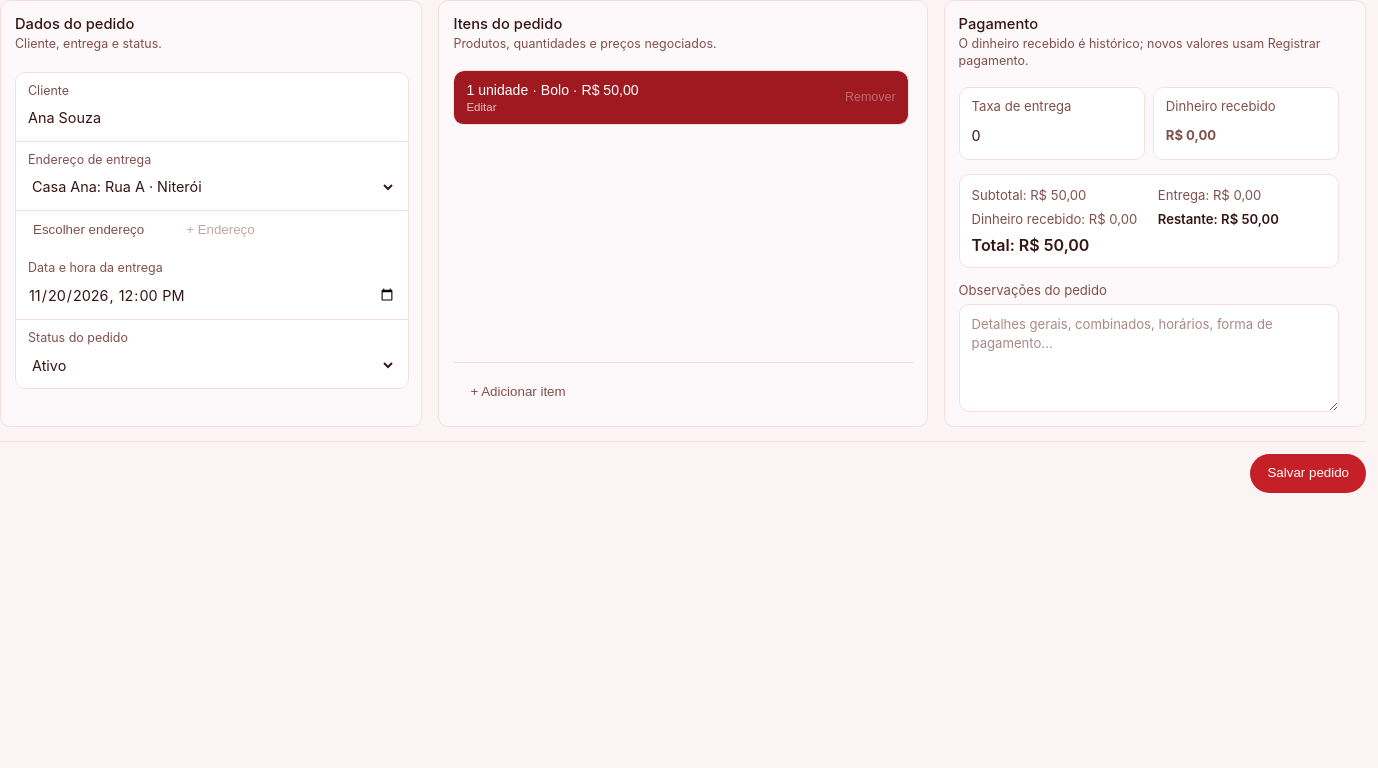
OrderForm client autocomplete › does not submit a typed name without selecting a valid client
Replace the text in the dropdown labelled "Cliente" with "Cliente inexistente" at (212, 118), box [28, 105, 396, 131]
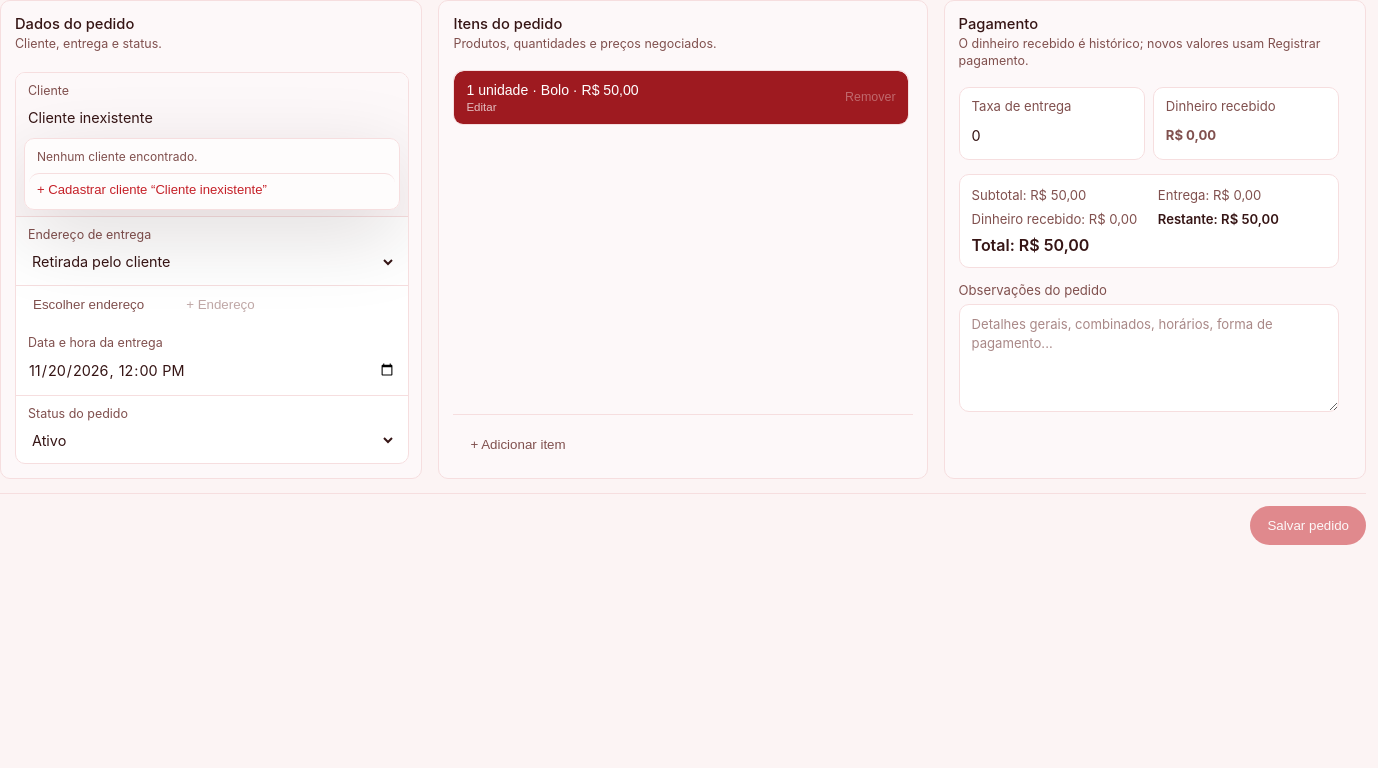
Check: the button "Salvar pedido" is disabled, box [1250, 506, 1366, 545]
Check: the button "+ Cadastrar cliente “Cliente inexistente”" is shown, box [29, 173, 395, 205]
